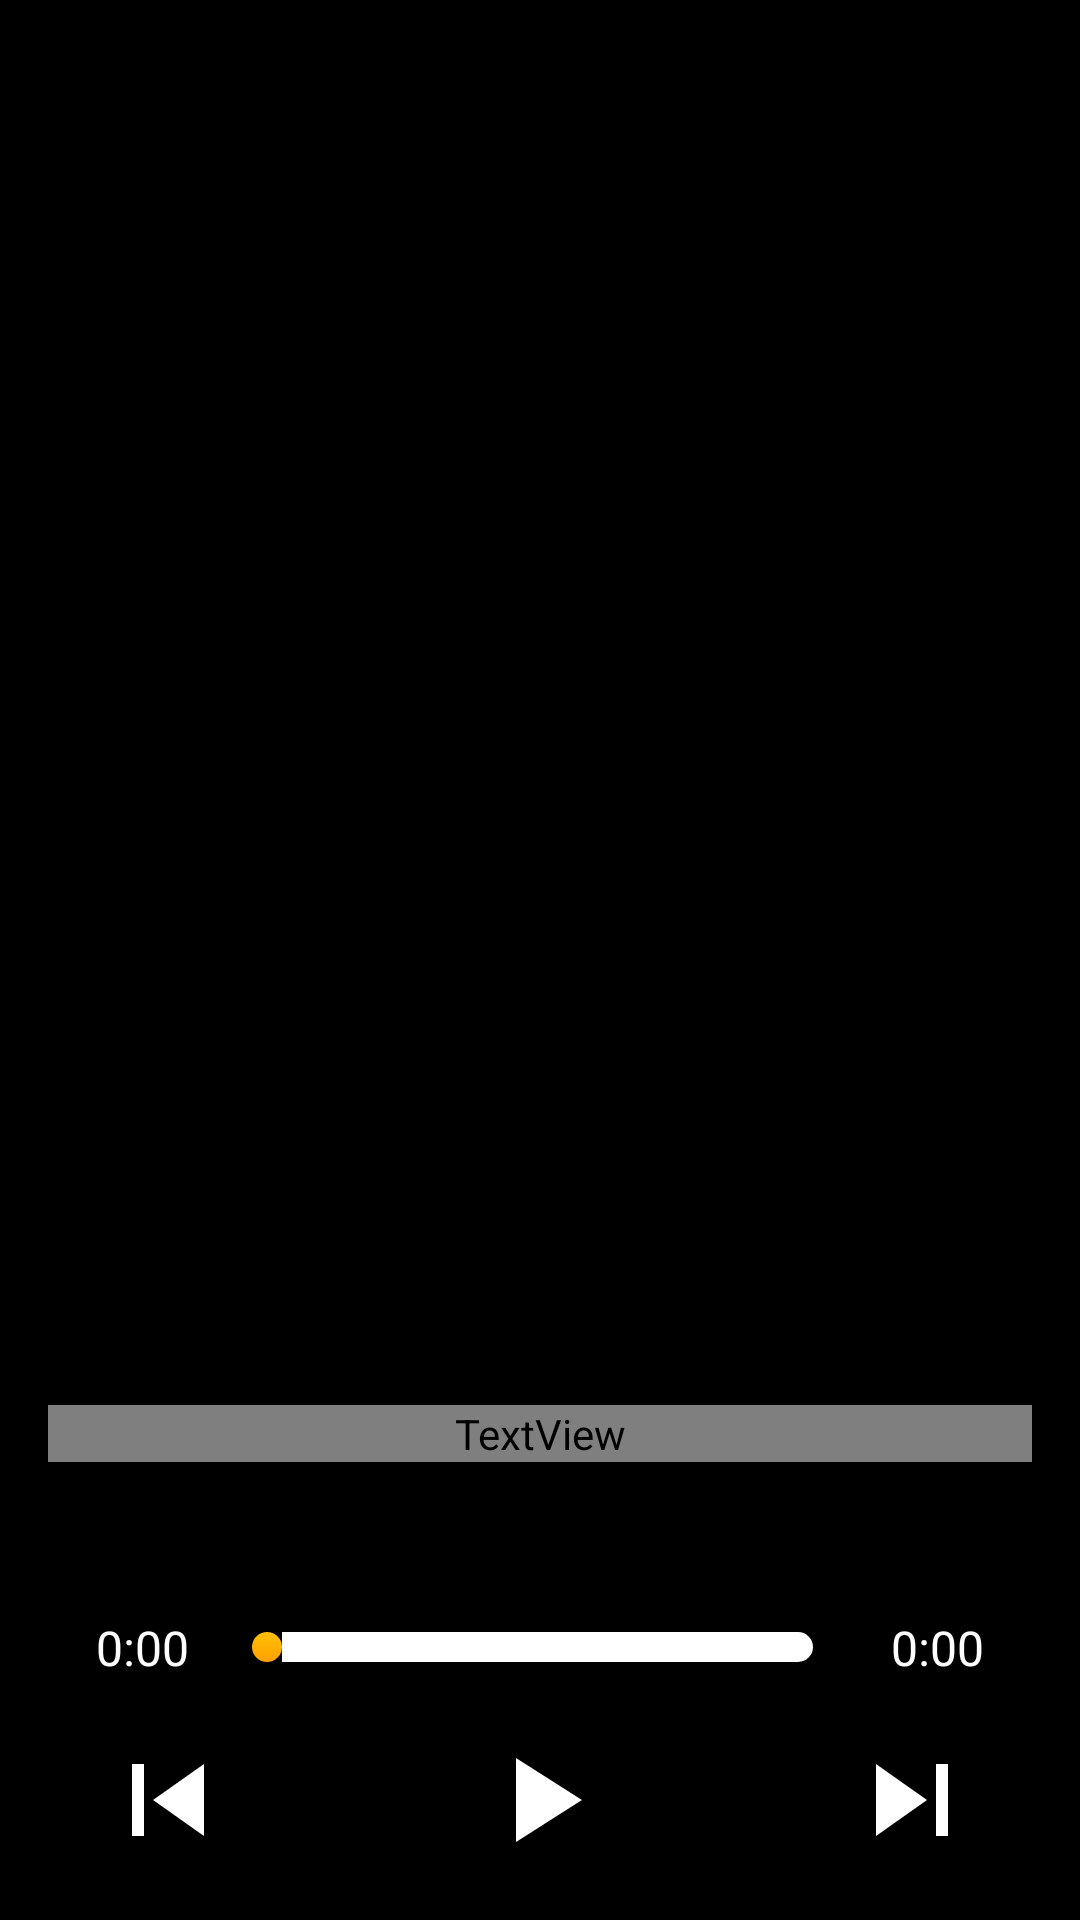

Icon bounding boxes for this 1080px×1920px phone screenshot, format detection(x1, y1, x2, y2):
next: detection(876, 1764, 948, 1836)
play: detection(516, 1758, 582, 1842)
prev: detection(132, 1764, 204, 1836)
